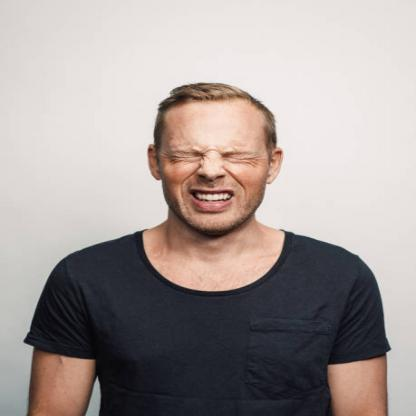pain: (164, 142, 265, 169)
